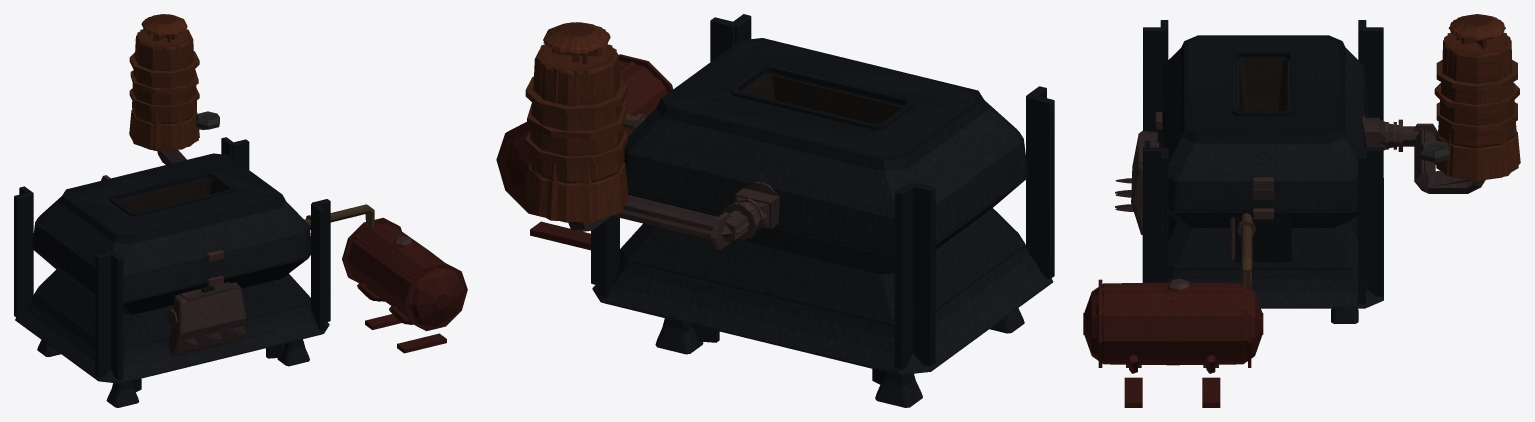
File: refinery.glb
3 views of the same model, side by side, from view 1: azimuth 30°, elevation 25°; view 2: azimuth 150°, elevation 25°; view 3: azimuth 270°, elevation 25° (orthographic). The views are drawn at different scales.
Visible parts, largest first — view 1: LOD0_refinery, LOD1_refinery, LOD2_refinery; view 2: LOD0_refinery, LOD1_refinery, LOD2_refinery; view 3: LOD0_refinery, LOD1_refinery, LOD2_refinery.
Part boxes in pixels (<box>): LOD0_refinery: <box>14,14,467,407</box>; LOD1_refinery: <box>31,14,464,394</box>; LOD2_refinery: <box>34,14,449,348</box>; LOD0_refinery: <box>496,14,1054,407</box>; LOD1_refinery: <box>522,22,1028,387</box>; LOD2_refinery: <box>524,22,1024,324</box>; LOD0_refinery: <box>1084,14,1518,407</box>; LOD1_refinery: <box>1083,14,1520,407</box>; LOD2_refinery: <box>1083,14,1510,365</box>.
Size of the model in its own units: 1.72 by 1.2 by 1.55.
Materials: 9 (3 with a texture image).
